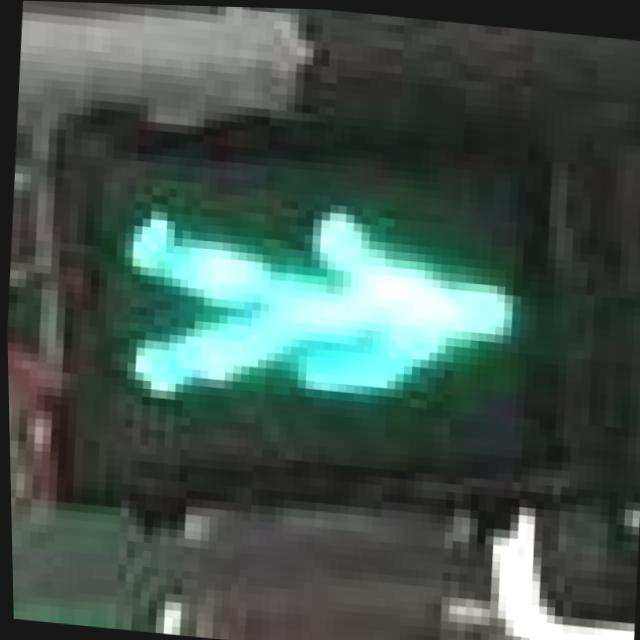green_light: (102, 94, 567, 538)
